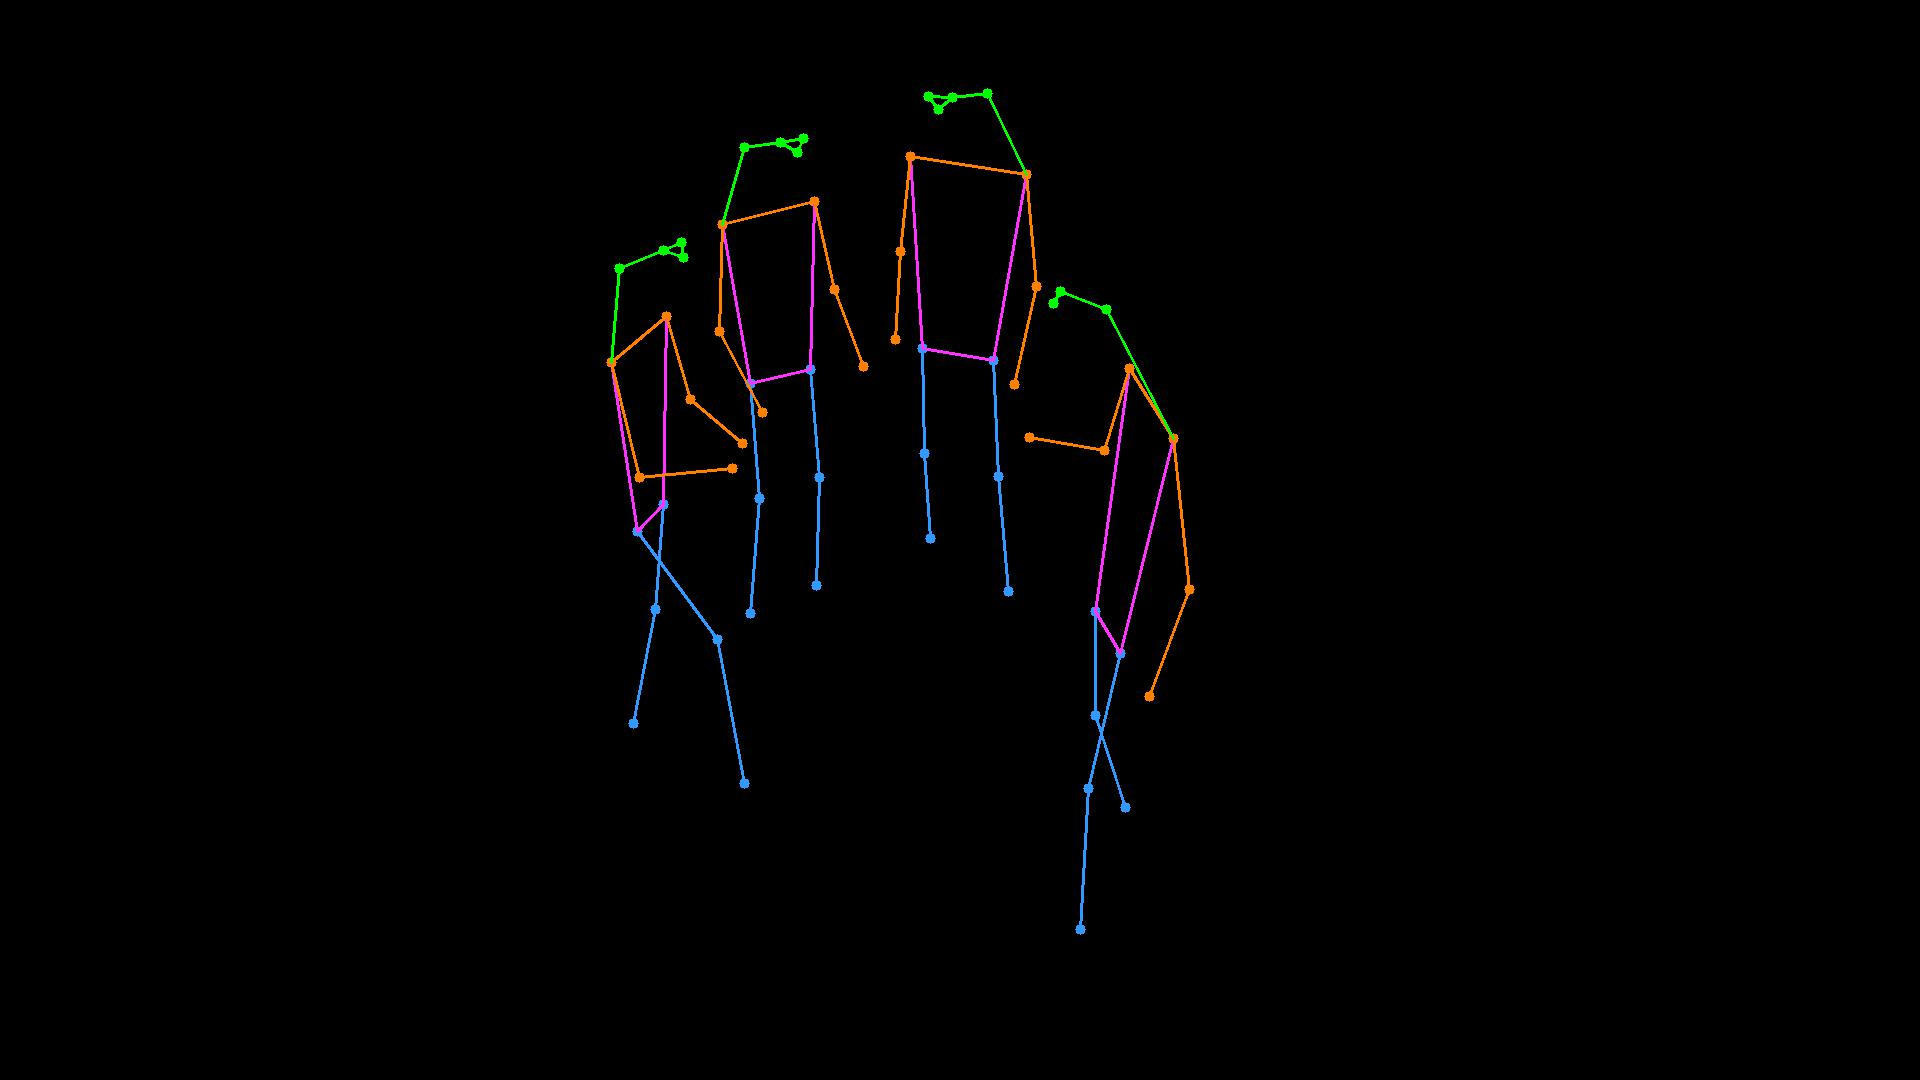normal: (922, 194, 1232, 992), (531, 181, 839, 862), (691, 65, 897, 634), (874, 26, 1048, 655)
